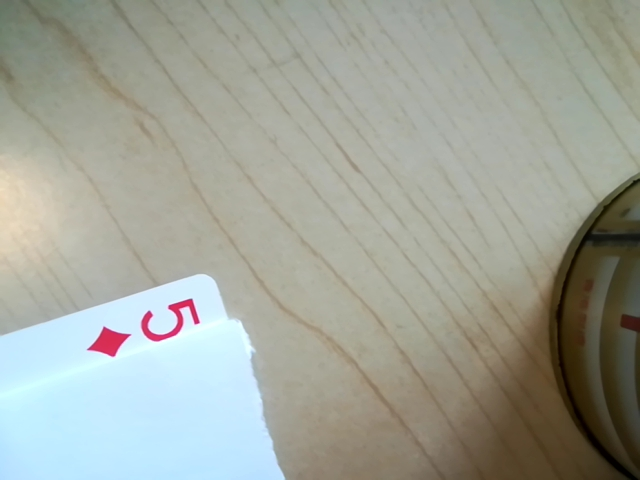fk 5: (80, 297, 213, 359)
